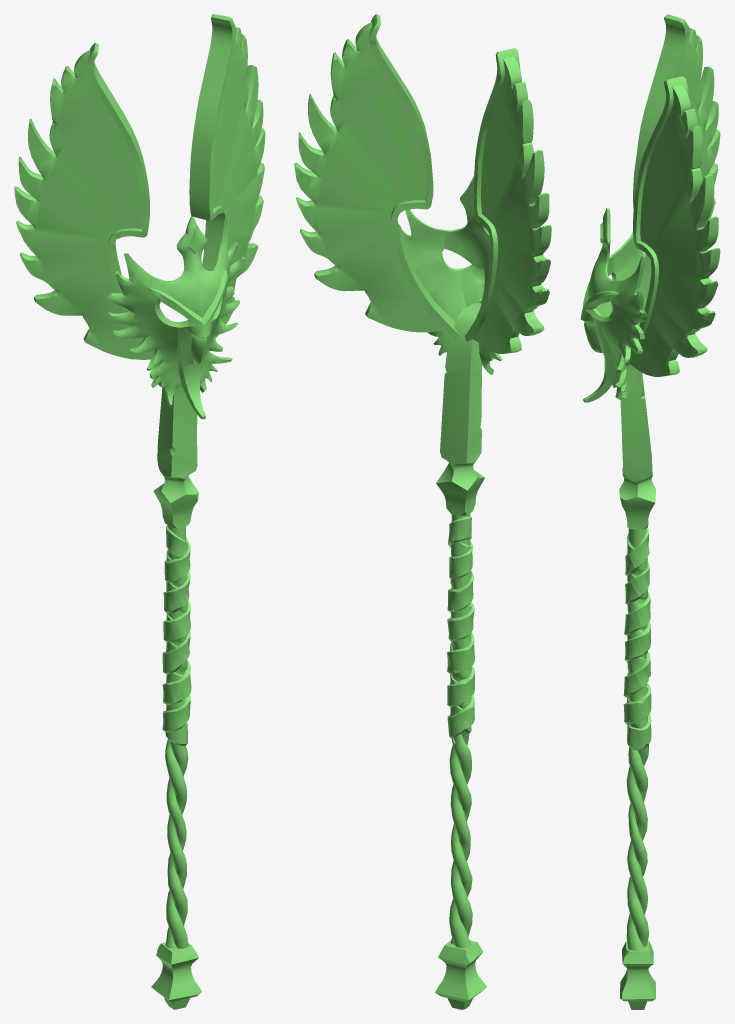
Rendered from SM_Rune_Staff_2.fbx.
The picture shows the model from 3 angles, left to right: view 1: azimuth 30°, elevation 25°; view 2: azimuth 150°, elevation 25°; view 3: azimuth 270°, elevation 25°; orthographic projection. The views are drawn at different scales.
Parts seen in each view (by area): view 1: SM_Rune_Staff_2; view 2: SM_Rune_Staff_2; view 3: SM_Rune_Staff_2.
Boxes of the visible parts, x1=… form: SM_Rune_Staff_2: x1=14, y1=14, x2=265, y2=1009; SM_Rune_Staff_2: x1=294, y1=14, x2=551, y2=1009; SM_Rune_Staff_2: x1=580, y1=14, x2=720, y2=1009.
Size of the model in its own units: 0.477 by 1.75 by 0.231.
